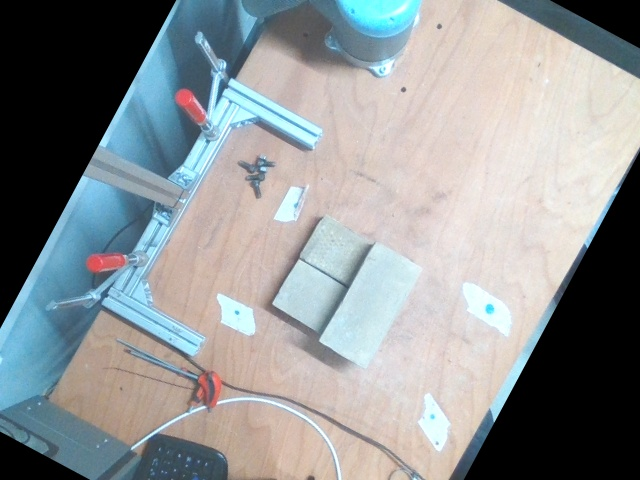brick: (318, 240, 424, 369)
